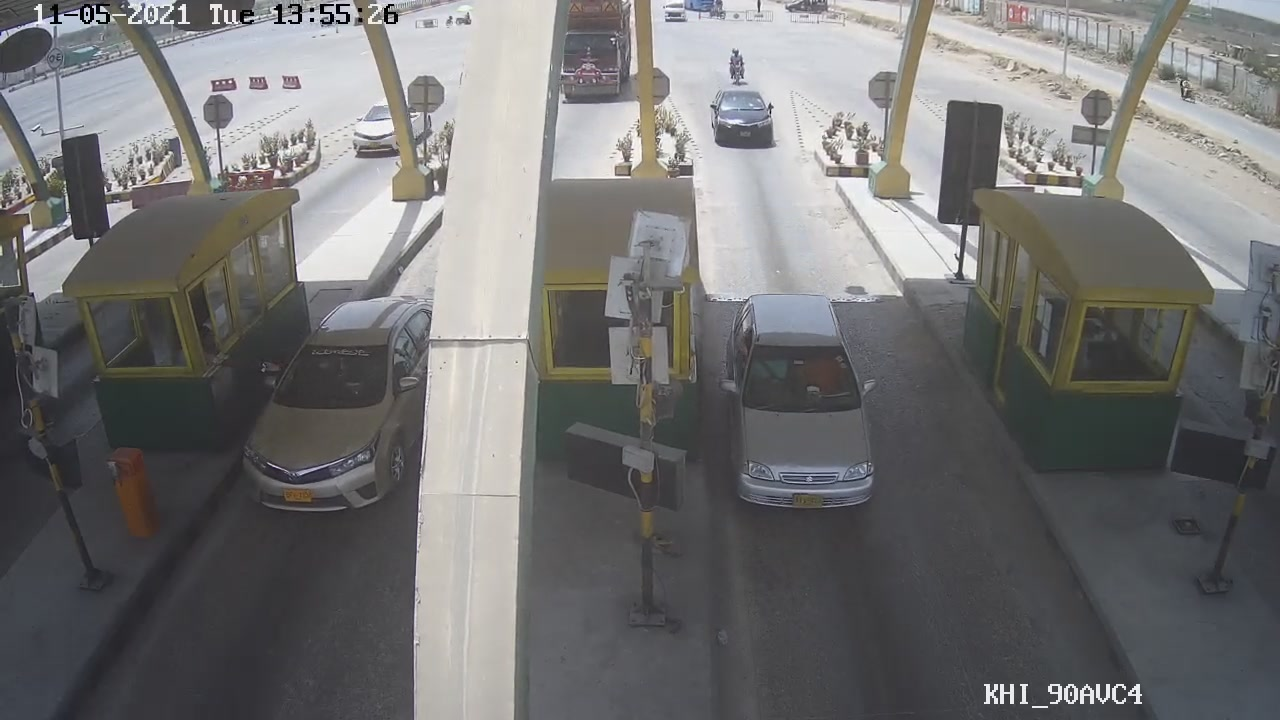F2: (724, 287, 882, 515)
